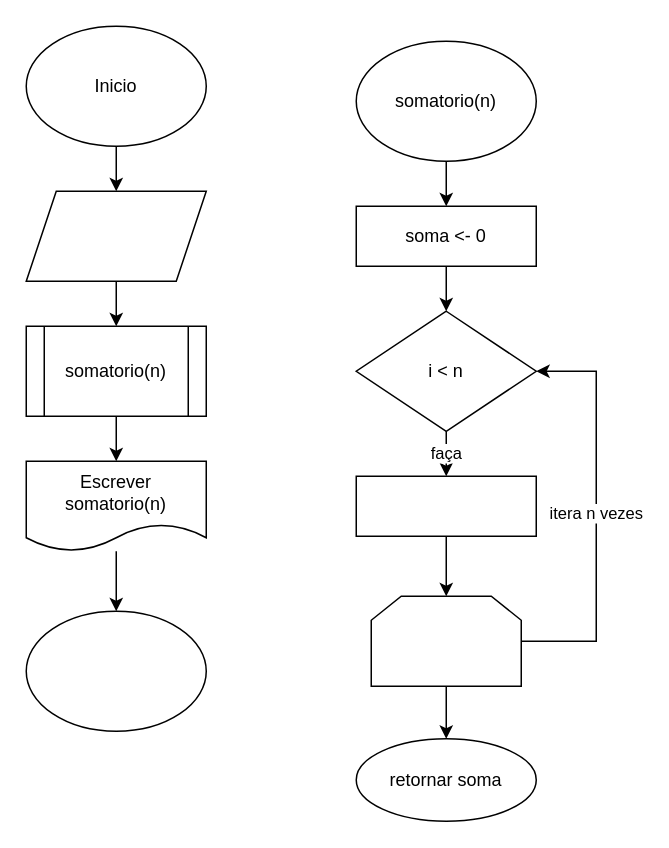
The diagram is 669 pixels wide and 848 high, and some of its shapes have lost their labels. The shapes that lost their labels are listed below. From the top down, each one's centre as x and y in pixels, then its label:
At point (115, 235): "Ler (n)".
At point (445, 505): "soma <- soma + i".
At point (445, 640): "fim-para-fazer".
At point (115, 670): "Fim".
